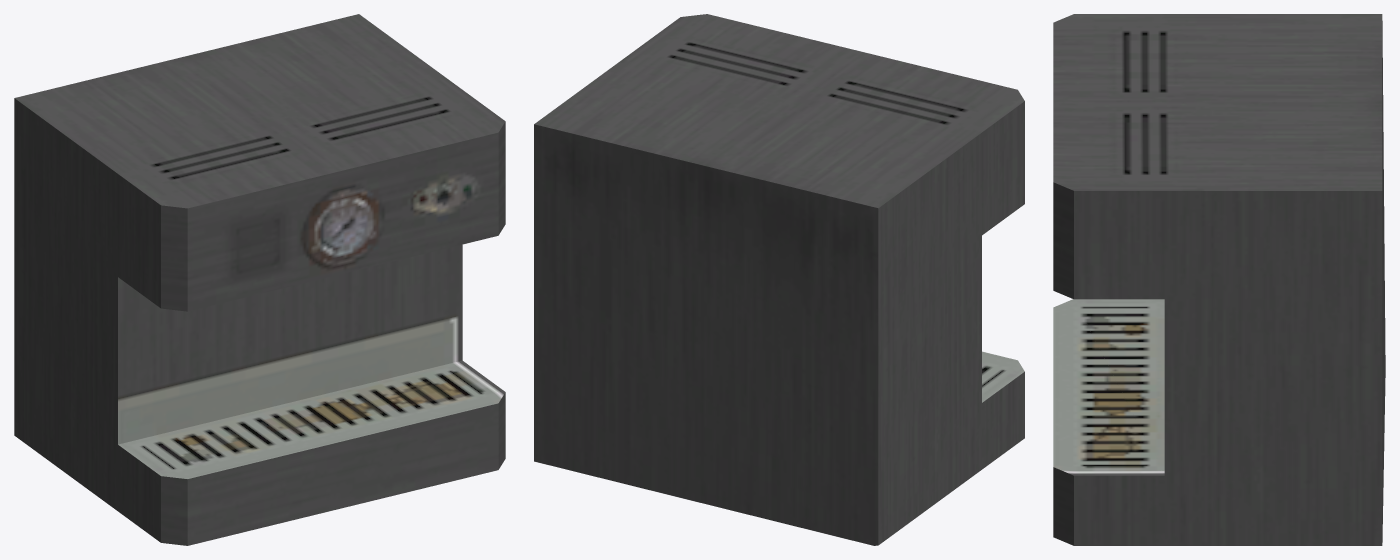
The model's file is hjk_cafe_coffee_machine01_lod2.glb.
3 renders of one model, left to right at view 1: azimuth 30°, elevation 25°; view 2: azimuth 150°, elevation 25°; view 3: azimuth 270°, elevation 25°, orthographic. The views are drawn at different scales.
Parts seen in each view (by area): view 1: surf0, surf1; view 2: surf0, surf1; view 3: surf0, surf1.
Part boxes in pixels (box(x1,y1,x2,y2)): surf0: box(14, 14, 505, 545); surf1: box(14, 98, 505, 478); surf0: box(534, 17, 1024, 545); surf1: box(681, 14, 1024, 544); surf0: box(1053, 14, 1385, 545); surf1: box(1053, 14, 1382, 545).
Size of the model in its own units: 20.16 by 18.87 by 16.
